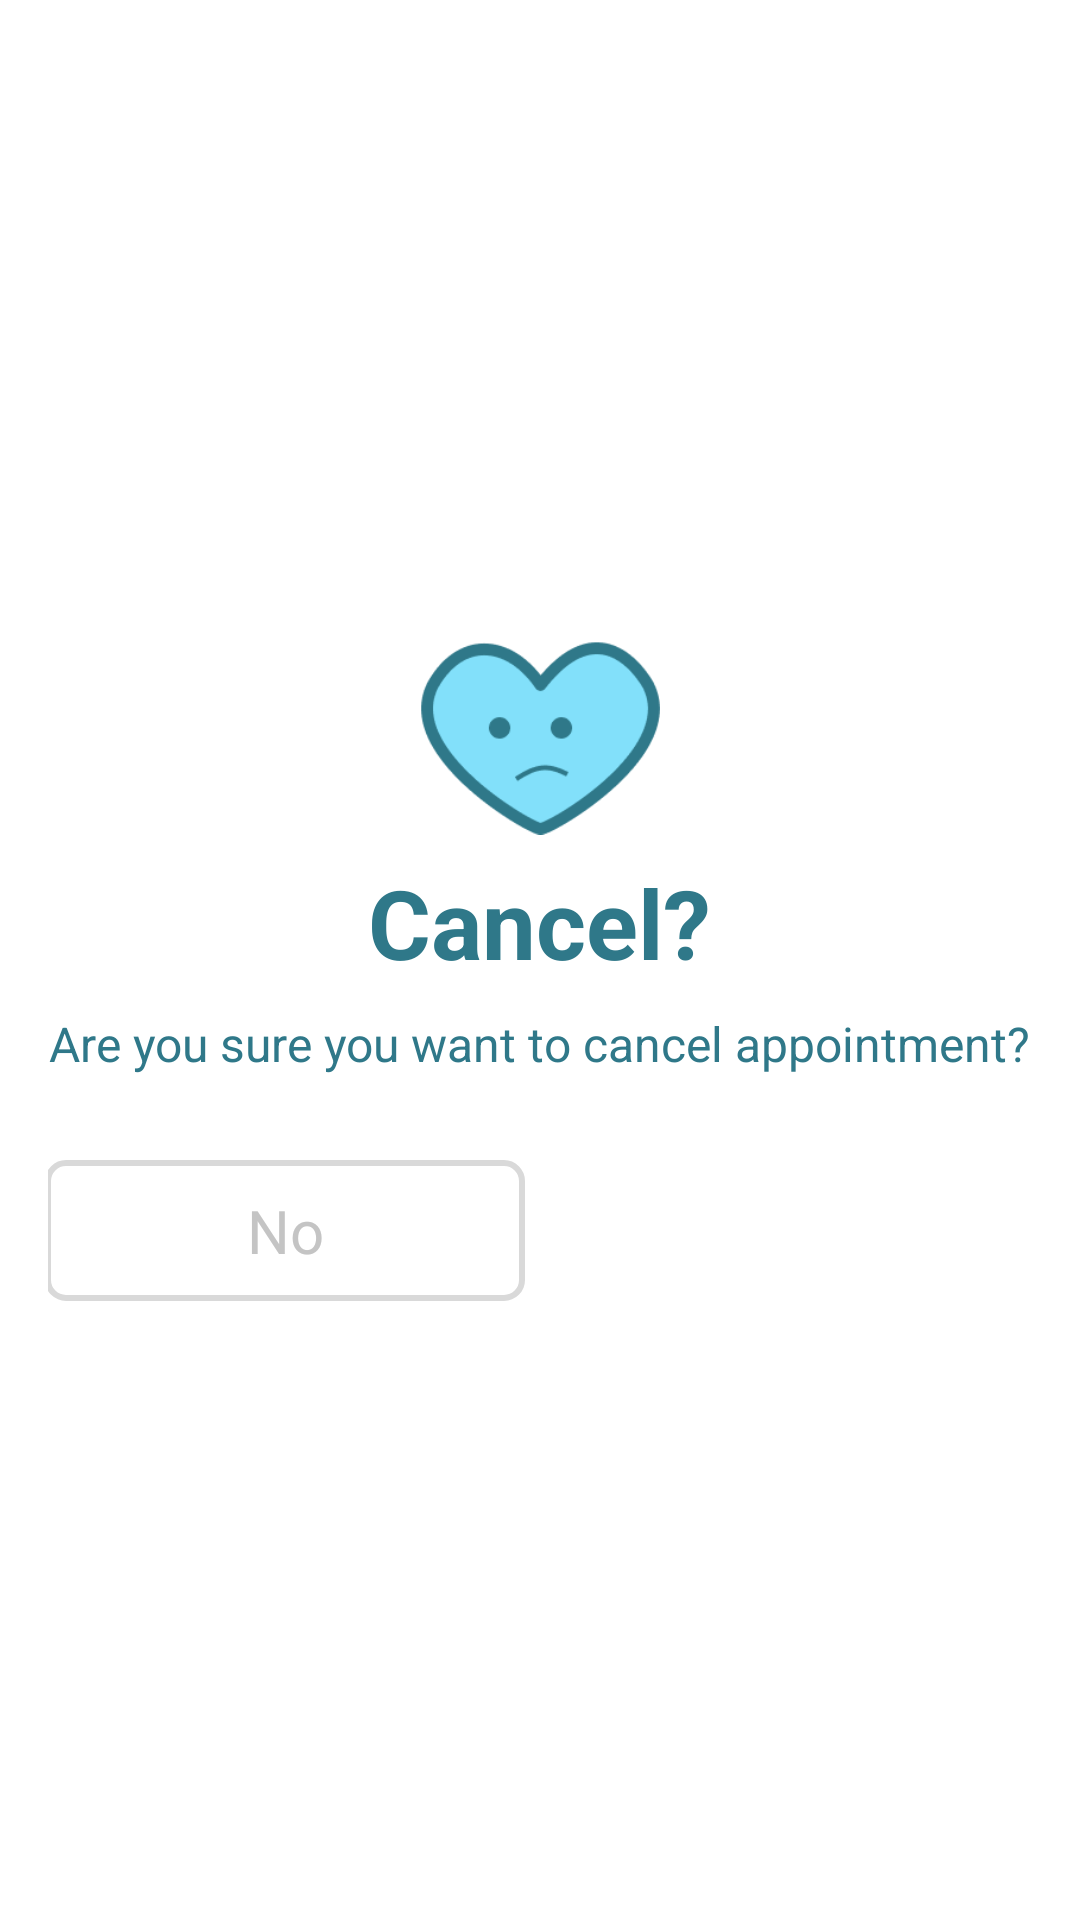

Screen size 1080 × 1920. Icon name, then its box in pixels as (x1, y1, x2, y2):
heart sad: (421, 642, 660, 835)
